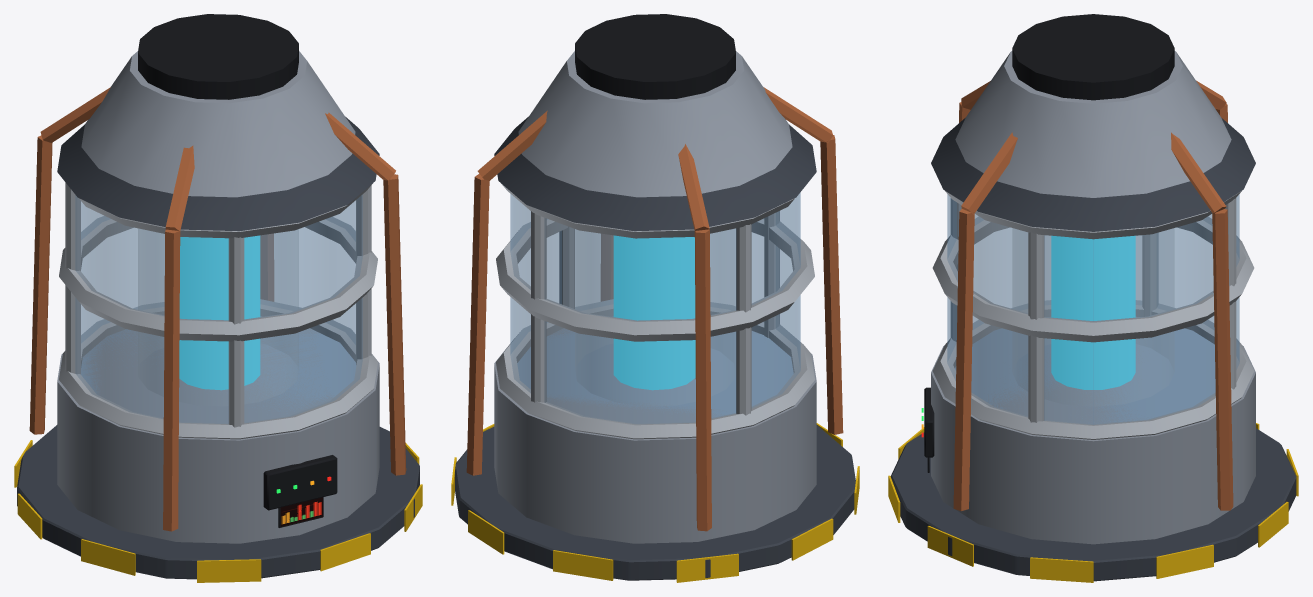
File: reactor_fusion_core_reactor.glb
3 renders of one model, left to right at view 1: azimuth 30°, elevation 25°; view 2: azimuth 150°, elevation 25°; view 3: azimuth 270°, elevation 25°, orthographic.
Visible parts, largest first — view 1: reactor_fusion_core_reactor; view 2: reactor_fusion_core_reactor; view 3: reactor_fusion_core_reactor.
Part boxes in pixels (x1,y1,x2,y2): reactor_fusion_core_reactor: (14, 14, 422, 582); reactor_fusion_core_reactor: (451, 14, 859, 582); reactor_fusion_core_reactor: (888, 14, 1298, 582).
Size of the model in its own units: 2.52 by 3.04 by 2.52.
Materials: 13 (1 with a texture image).
